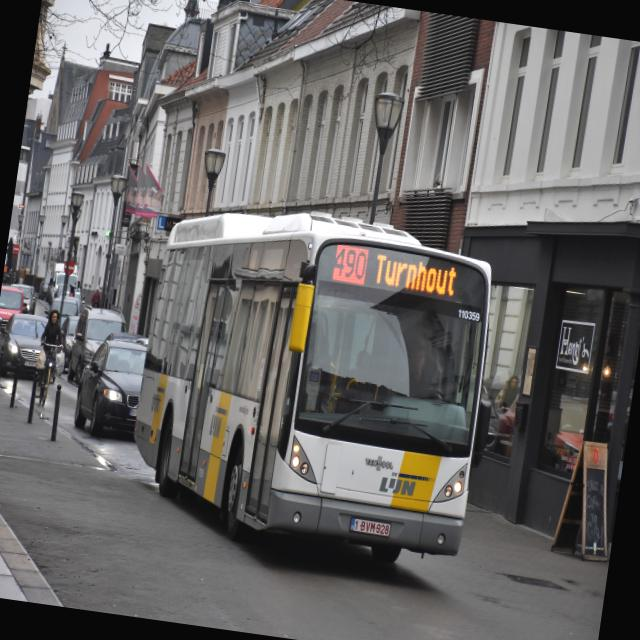bus-number: (332, 243, 370, 286)
